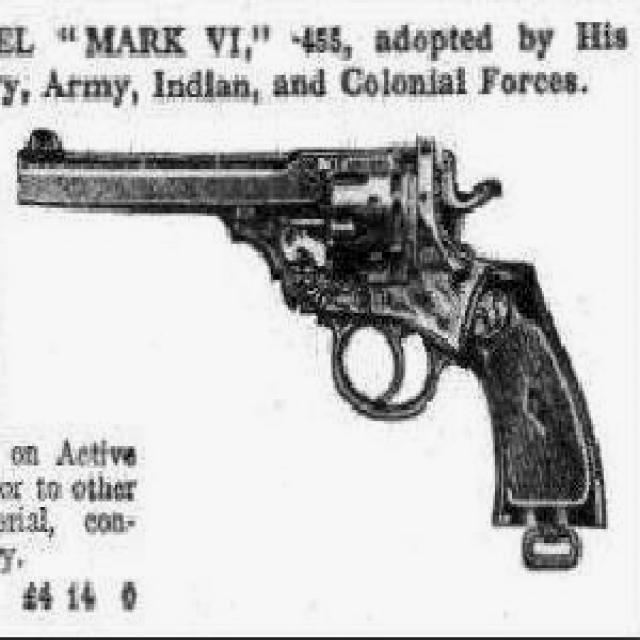pistol: (19, 125, 612, 529)
